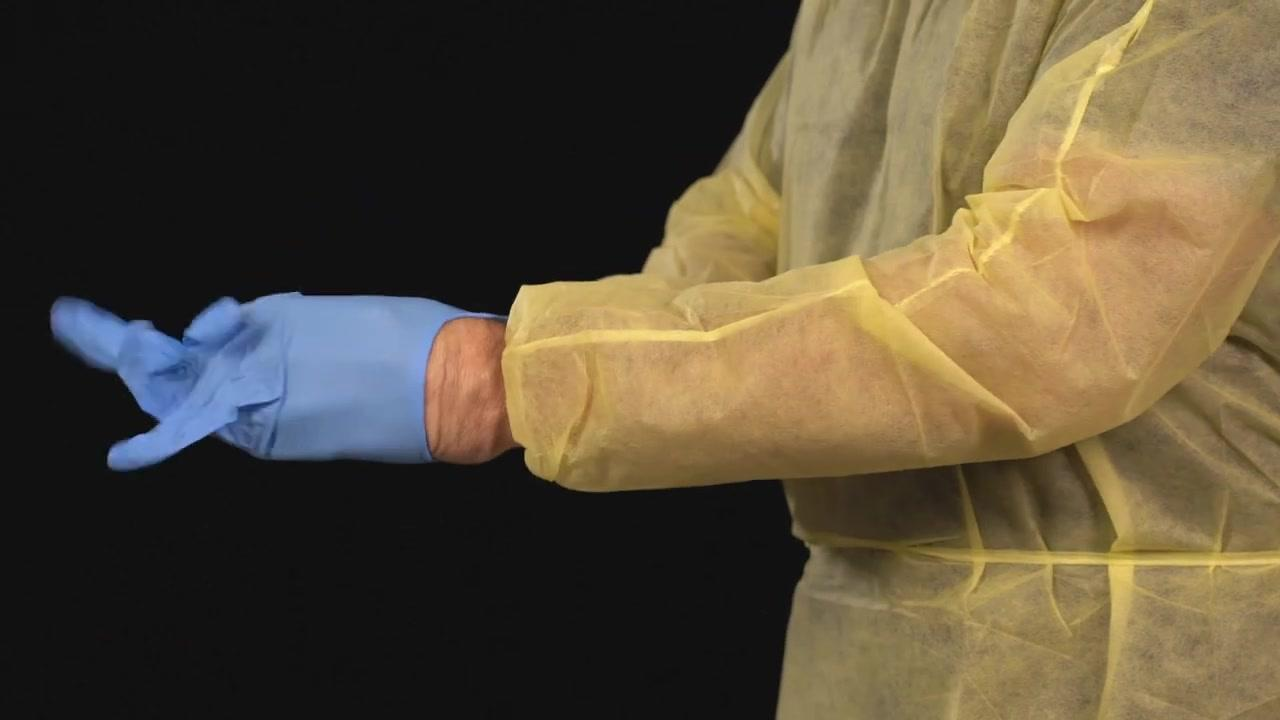Gloves: (41, 278, 486, 477)
